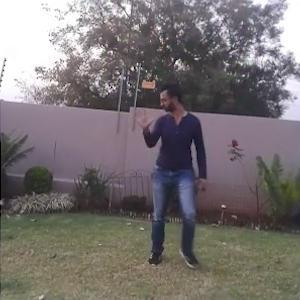follow_hand: (130, 103, 156, 130)
